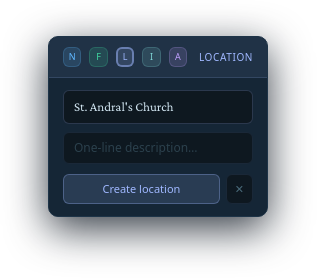
Test: EntityQuickCreatePopover › selecting a type updates the create button label
Click the button named "npc": (72, 57) [63,47,81,67]
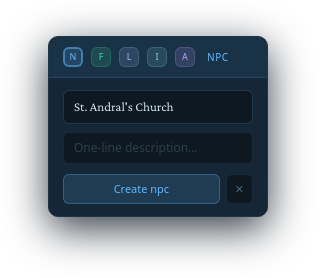
Result: the button "Create npc" is shown at [63,174,220,204]
